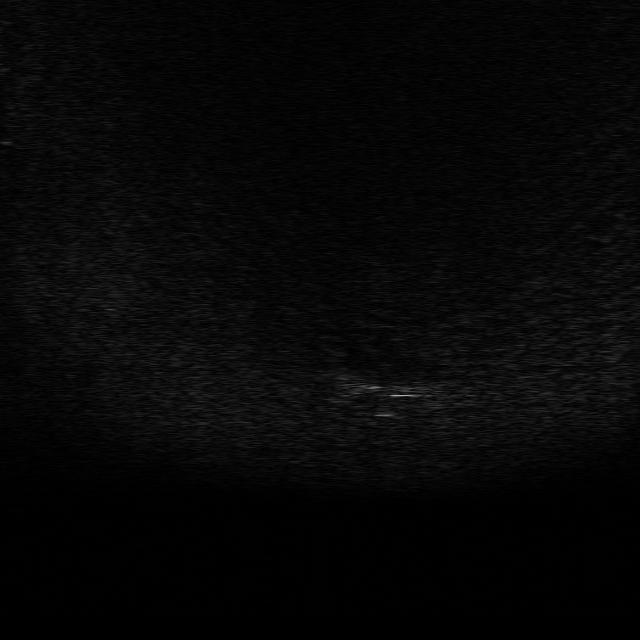plane: (336, 372, 440, 417)
